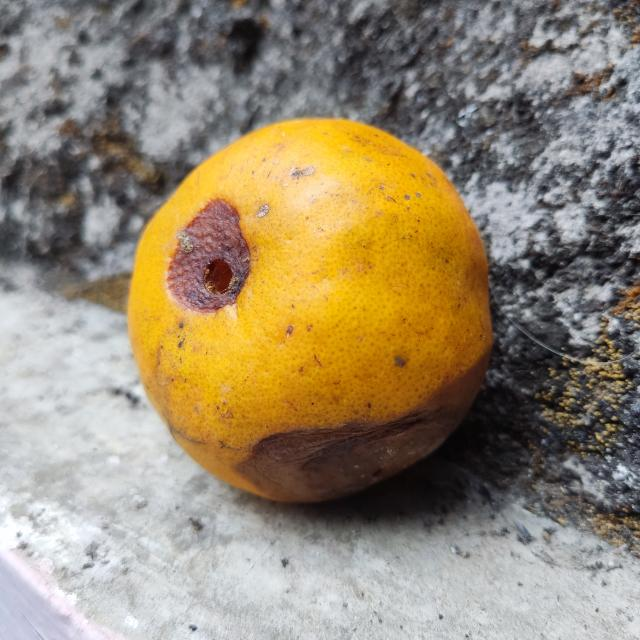orange: (125, 118, 495, 507)
